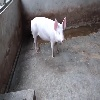heo: (28, 13, 71, 59)
